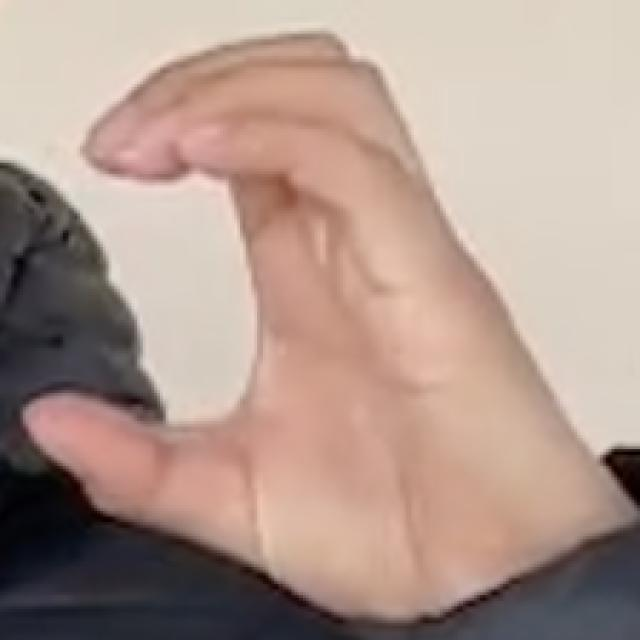C: (7, 22, 631, 632)
